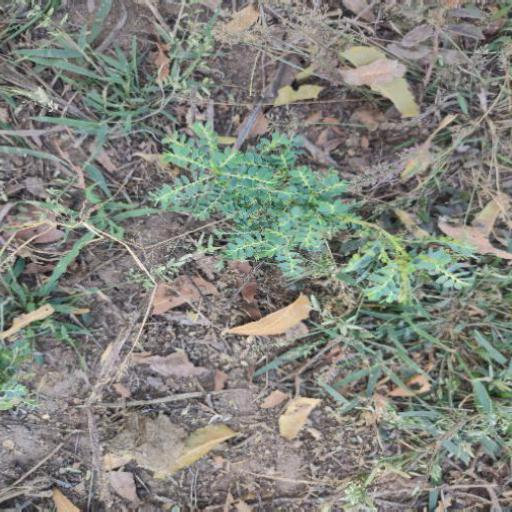weed: (172, 128, 404, 301)
